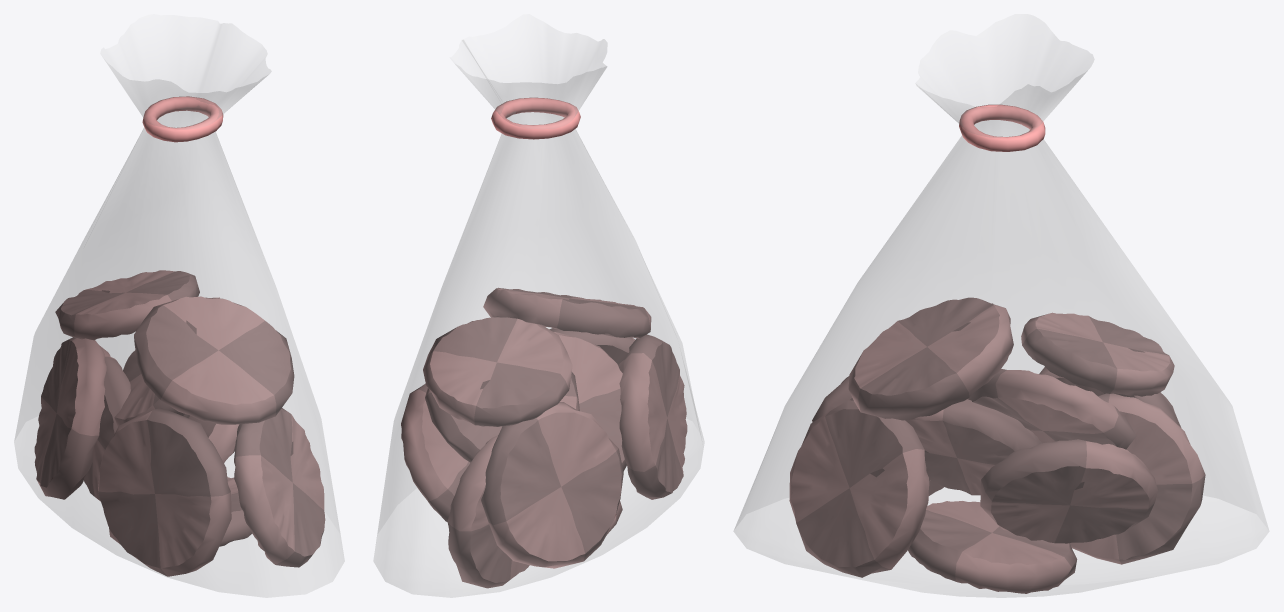
File: クッキー.fbx
The picture shows the model from 3 angles, left to right: view 1: azimuth 30°, elevation 25°; view 2: azimuth 150°, elevation 25°; view 3: azimuth 270°, elevation 25°; orthographic projection. The views are drawn at different scales.
Parts seen in each view (by area): view 1: polySurface15; view 2: polySurface15; view 3: polySurface15.
Part boxes in pixels (x1=…): polySurface15: x1=14, y1=14, x2=344, y2=597; polySurface15: x1=373, y1=14, x2=704, y2=597; polySurface15: x1=733, y1=14, x2=1269, y2=597.
Size of the model in its own units: 3.04 by 6.82 by 6.2.
